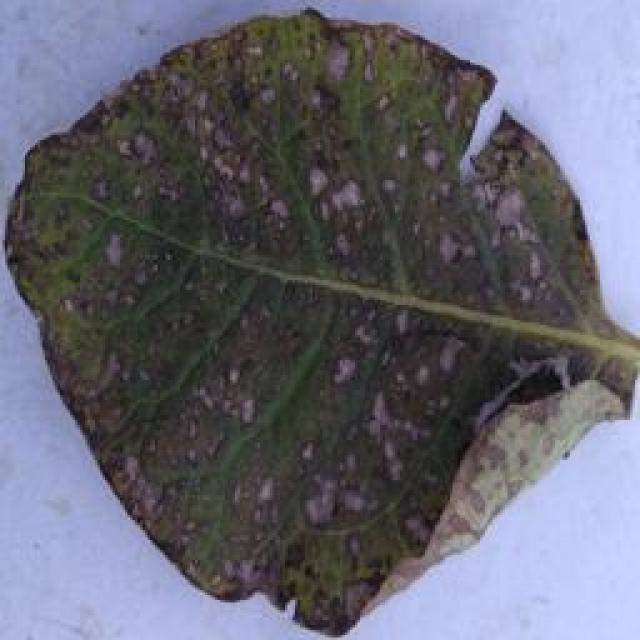Potato_Early_Blight: (6, 6, 634, 632)
